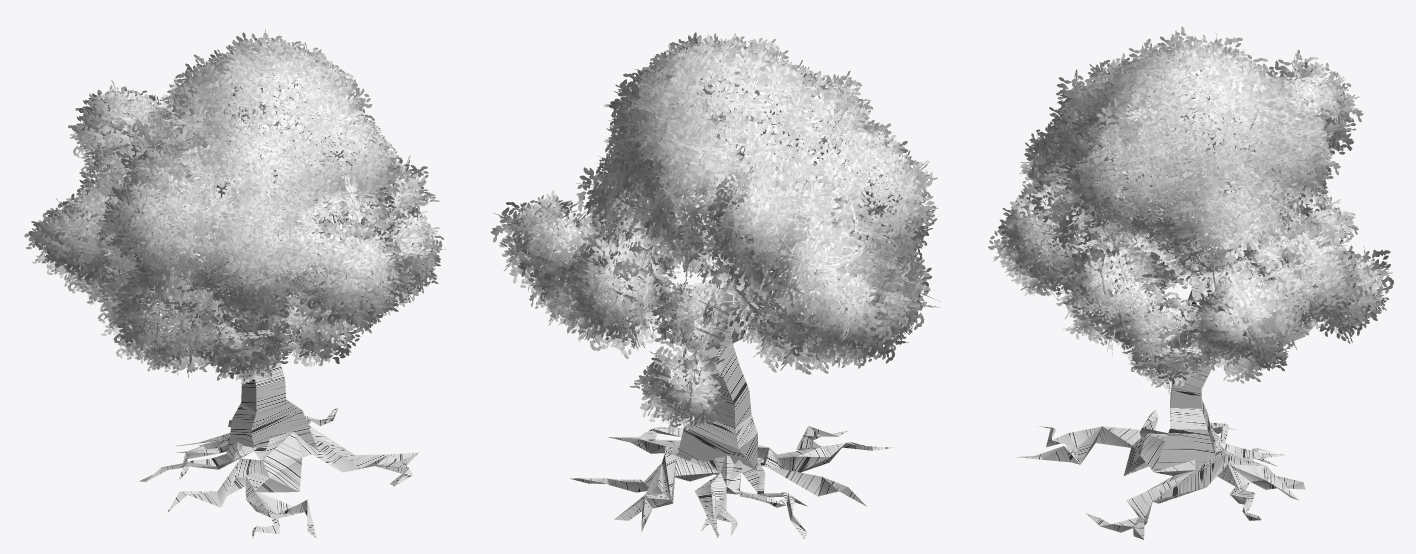
Rendered from Oaktree03.fbx.
3 views of the same model, side by side, from view 1: azimuth 30°, elevation 25°; view 2: azimuth 150°, elevation 25°; view 3: azimuth 270°, elevation 25° (orthographic). The views are drawn at different scales.
Visible parts, largest first — view 1: OakTree03_LOD0; view 2: OakTree03_LOD0; view 3: OakTree03_LOD0.
Boxes of the visible parts, box(x1,y1,x2,y2) form: OakTree03_LOD0: box(24, 28, 446, 538); OakTree03_LOD0: box(490, 32, 940, 539); OakTree03_LOD0: box(988, 26, 1393, 539).
Size of what is drawn, in the model's own units: 1133 by 1185 by 1003.
